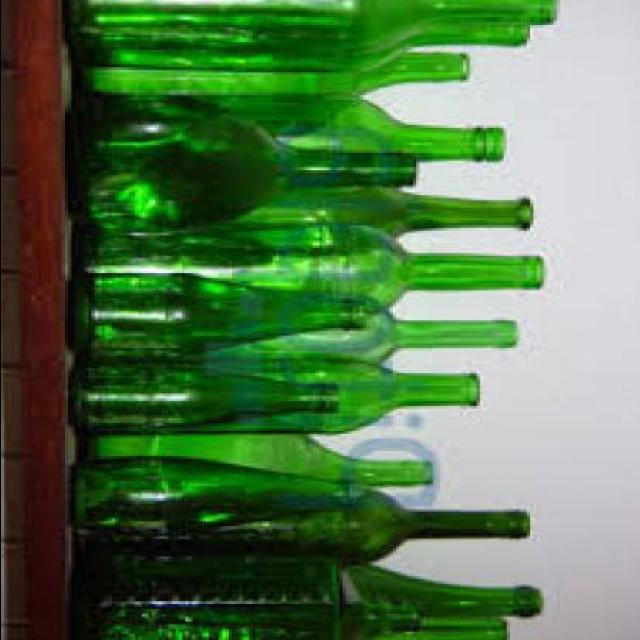kaca: (70, 100, 418, 238), (74, 224, 546, 310), (74, 556, 425, 640), (67, 0, 559, 54), (74, 460, 362, 548), (70, 278, 372, 360), (73, 25, 530, 75), (70, 360, 344, 436), (77, 436, 436, 492), (204, 100, 508, 166), (76, 50, 468, 100), (230, 360, 482, 436), (295, 490, 535, 565), (234, 307, 520, 363), (260, 190, 532, 240), (354, 564, 544, 622), (409, 621, 509, 640)
